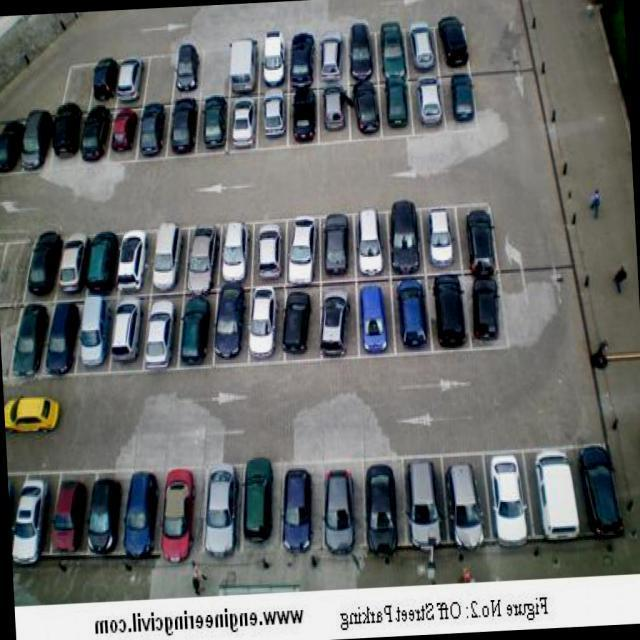space-empty: (60, 57, 100, 112), (2, 241, 27, 311), (0, 307, 18, 385), (202, 47, 230, 97), (146, 58, 173, 105)
space-occupied: (526, 440, 589, 546), (323, 456, 373, 567), (481, 447, 534, 547), (363, 451, 411, 560), (401, 455, 449, 558), (162, 466, 207, 573), (441, 450, 490, 546), (281, 464, 329, 562), (239, 458, 282, 566), (126, 467, 168, 568), (204, 471, 246, 569), (19, 468, 62, 560), (55, 469, 95, 567), (581, 440, 618, 541), (93, 471, 132, 561), (430, 274, 473, 352), (357, 282, 398, 359), (143, 288, 183, 365), (385, 201, 425, 278), (321, 283, 362, 357), (285, 290, 325, 365), (21, 105, 59, 182), (317, 211, 357, 283), (164, 95, 204, 167), (425, 199, 462, 274), (248, 288, 283, 367), (356, 205, 391, 282), (56, 229, 93, 301), (287, 212, 323, 284), (396, 276, 432, 348), (116, 223, 153, 293), (30, 231, 65, 304), (78, 297, 108, 382), (86, 227, 122, 297), (216, 287, 246, 371), (253, 217, 288, 287), (111, 297, 144, 370), (470, 276, 503, 349), (316, 85, 356, 144), (184, 290, 214, 368), (50, 300, 80, 377), (21, 301, 48, 386), (380, 77, 415, 142), (286, 87, 320, 153), (254, 90, 288, 156), (221, 216, 255, 281), (150, 229, 186, 290), (350, 75, 383, 141), (190, 222, 221, 292), (54, 105, 87, 170), (199, 99, 232, 161), (463, 204, 494, 269), (82, 111, 113, 175), (377, 22, 411, 79), (441, 74, 474, 131), (257, 35, 290, 92), (410, 80, 443, 135), (109, 108, 142, 163), (0, 110, 27, 177), (407, 24, 440, 77), (230, 36, 259, 96), (313, 33, 349, 81), (349, 25, 379, 82), (227, 100, 257, 157), (443, 21, 475, 74), (178, 43, 204, 99), (121, 59, 149, 110), (290, 28, 316, 81), (93, 61, 121, 107), (9, 475, 21, 563)
